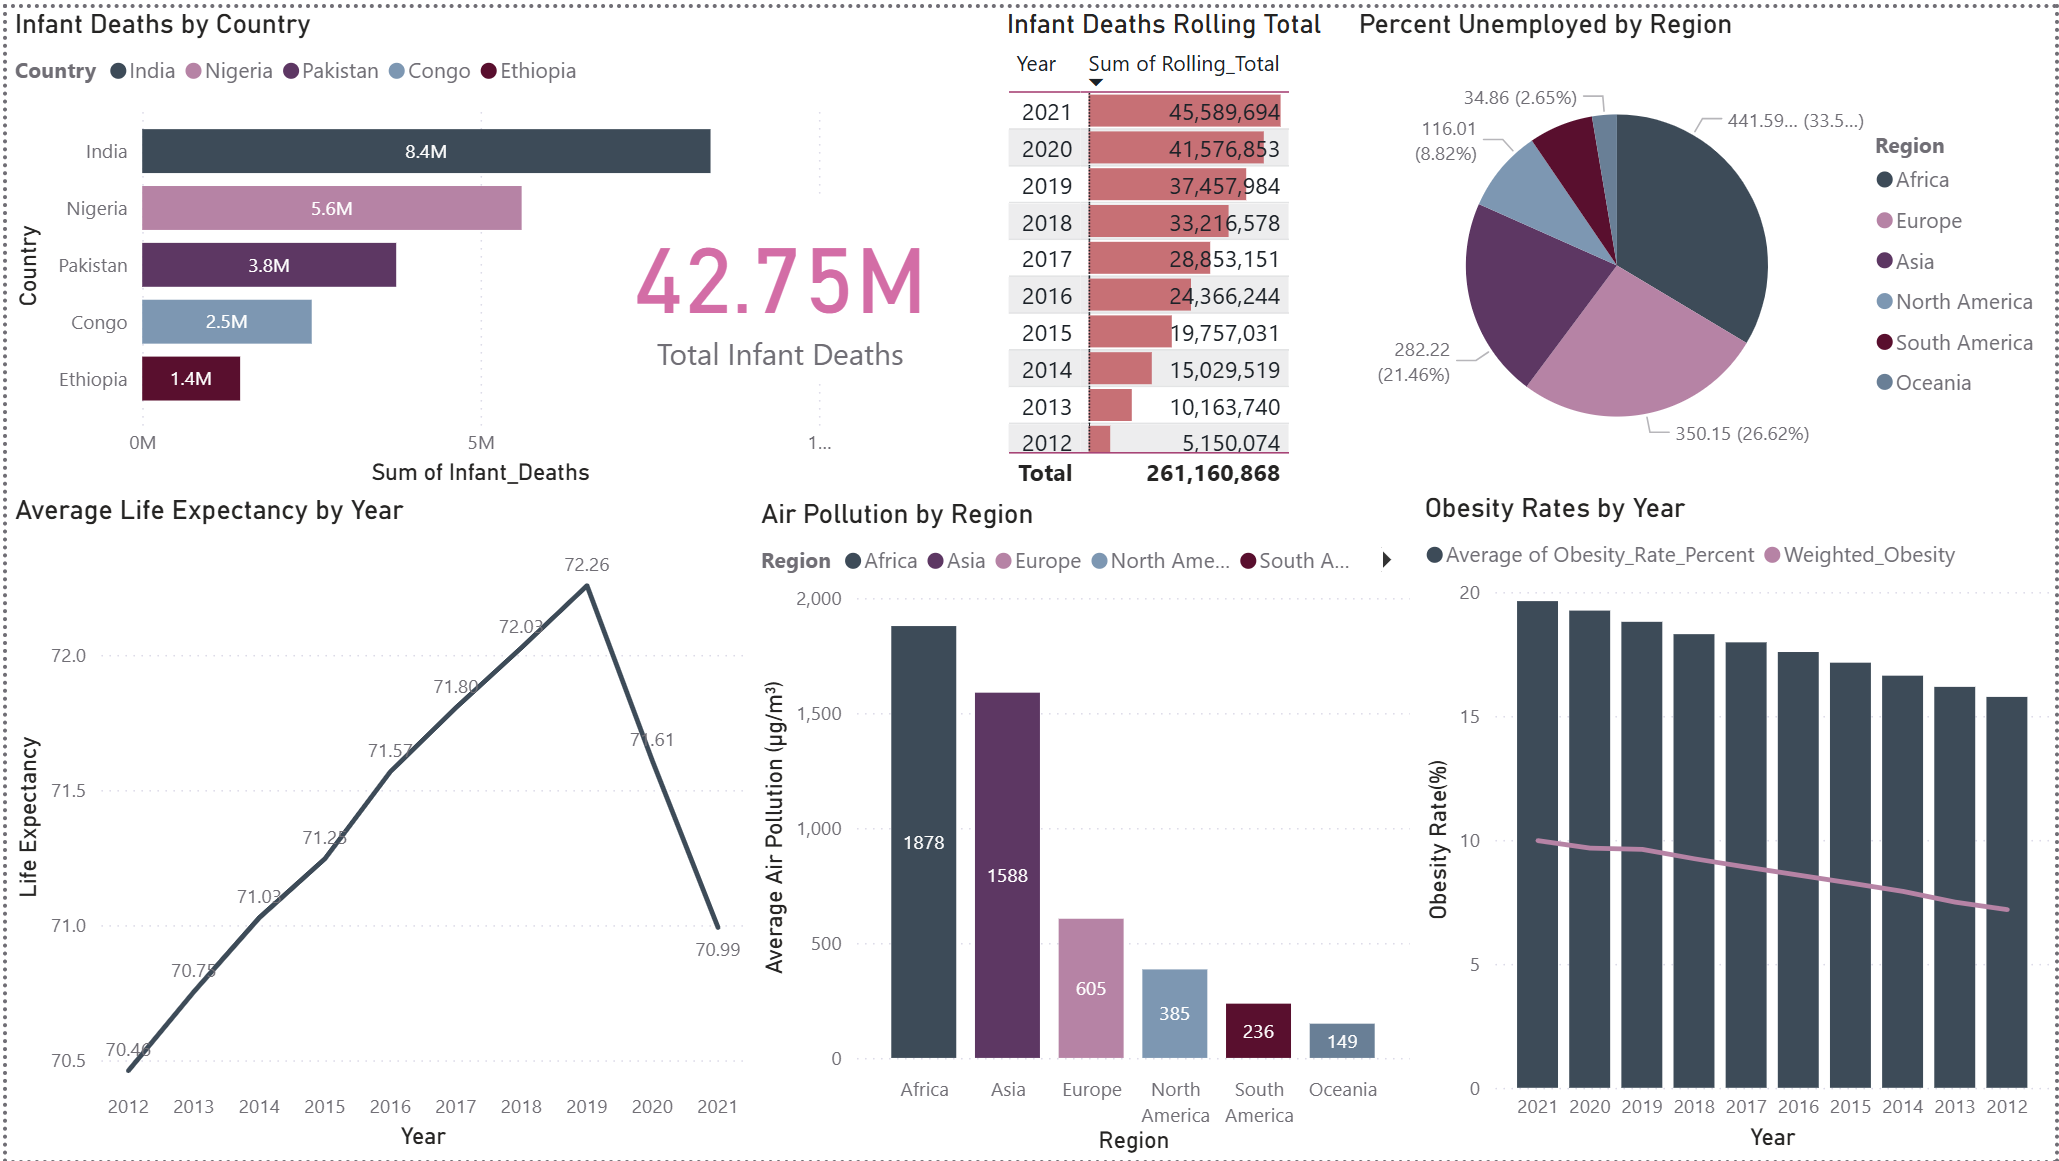

The dashboard page shown, as its layout file describes it:
{"tool":"powerbi","page":{"name":"Page 1","canvas":[1280,720],"ordinal":0},"visuals":[{"type":"columnChart","title":"Air Pollution by Region","fields":{"Category":["Air_Polution.Region","Air_Polution.Country"],"Y":["Sum(Air_Polution.Avg_Air_Pollution(µg/m³))"],"Series":["Air_Polution.Region"]},"box":[465.7,305.7,415.7,414.3],"z":0},{"type":"lineChart","title":"Average Life Expectancy by Year","fields":{"Category":["global_health_clean.Year"],"Y":["Avg(global_health_clean.Life_Expectancy)"]},"box":[0,304.3,465.7,414.3],"z":1000},{"type":"tableEx","title":"Infant Deaths Rolling Total","fields":{"Values":["Infant_Deaths.Year","Sum(Infant_Deaths.Rolling_Total)"]},"box":[620,0,271.4,305.7],"z":2000},{"type":"barChart","title":"Infant Deaths by Country","fields":{"Category":["Infant_Deaths.Country"],"Y":["Sum(Infant_Deaths.Infant_Deaths)"],"Series":["Infant_Deaths.Country"]},"box":[0,0,521.4,302.9],"z":3000},{"type":"lineStackedColumnComboChart","title":"Obesity Rates by Year","fields":{"Category":["global_health_clean.Year"],"Y":["Avg(global_health_clean.Obesity_Rate_Percent)"],"Y2":["global_health_clean.Weighted_Obesity"]},"box":[881.4,302.9,400,415.7],"z":4000},{"type":"card","title":"Total Infant Deaths","fields":{"Values":["Sum(Infant_Deaths.Infant_Deaths)"]},"box":[377.1,117.1,211.4,114.3],"z":5000},{"type":"pieChart","title":"Percent Unemployed by Region","fields":{"Category":["Air_Polution.Region"],"Y":["Sum(Overall_Unemployment_Percent.Percent_Unemployed_Overall)"]},"box":[840,0,441.4,302.9],"z":6000}]}

Visuals, with their boxes in screenshot pixels (x1, y1, x2, y2), scaled from the page's 1280x720 canvas onto the 2059x1161 screenshot:
"Air Pollution by Region" columnChart: x1=749 y1=493 x2=1418 y2=1160
"Average Life Expectancy by Year" lineChart: x1=0 y1=491 x2=749 y2=1159
"Infant Deaths Rolling Total" tableEx: x1=997 y1=0 x2=1434 y2=493
"Infant Deaths by Country" barChart: x1=0 y1=0 x2=839 y2=488
"Obesity Rates by Year" lineStackedColumnComboChart: x1=1418 y1=488 x2=2058 y2=1159
"Total Infant Deaths" card: x1=607 y1=189 x2=947 y2=373
"Percent Unemployed by Region" pieChart: x1=1351 y1=0 x2=2058 y2=488
